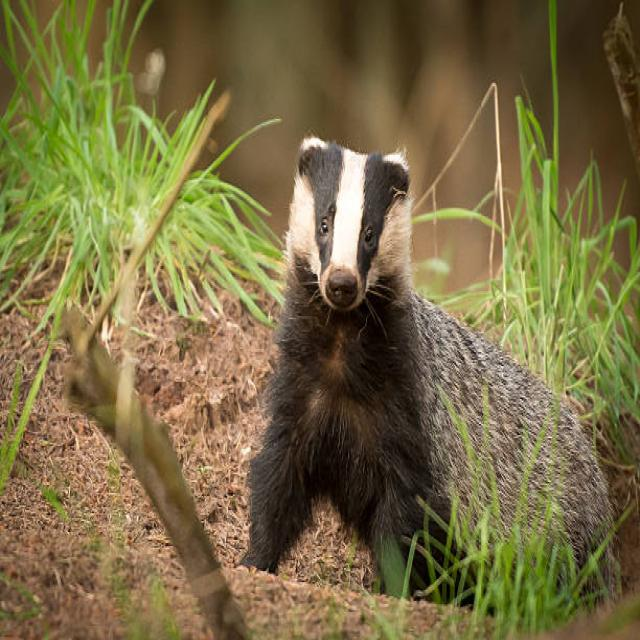Badger: (242, 143, 612, 596)
